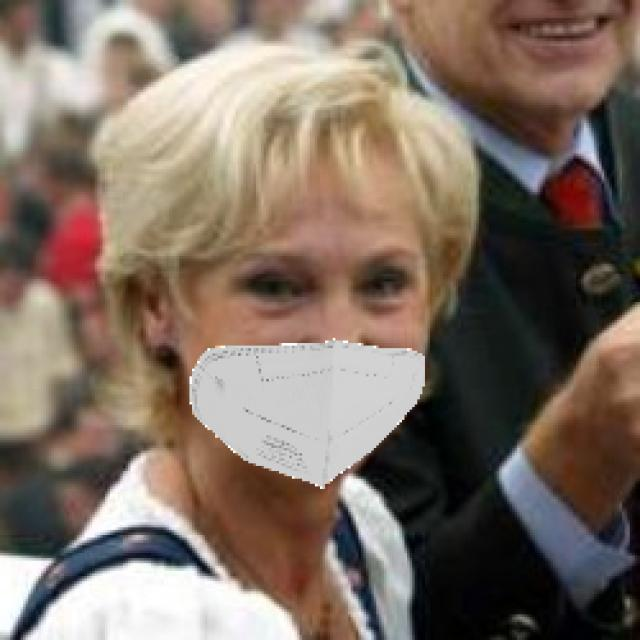mask: (191, 307, 429, 506)
